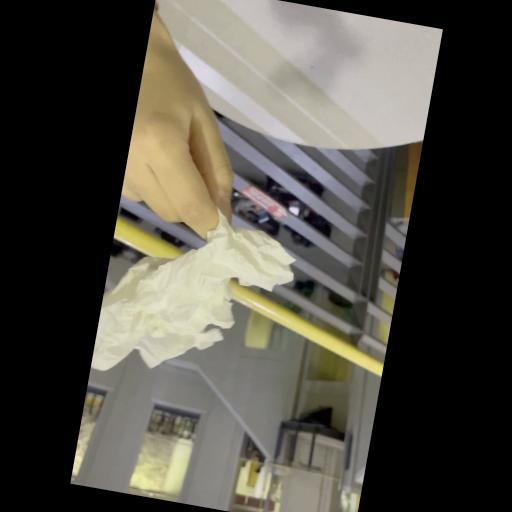napkin: (90, 192, 304, 402)
